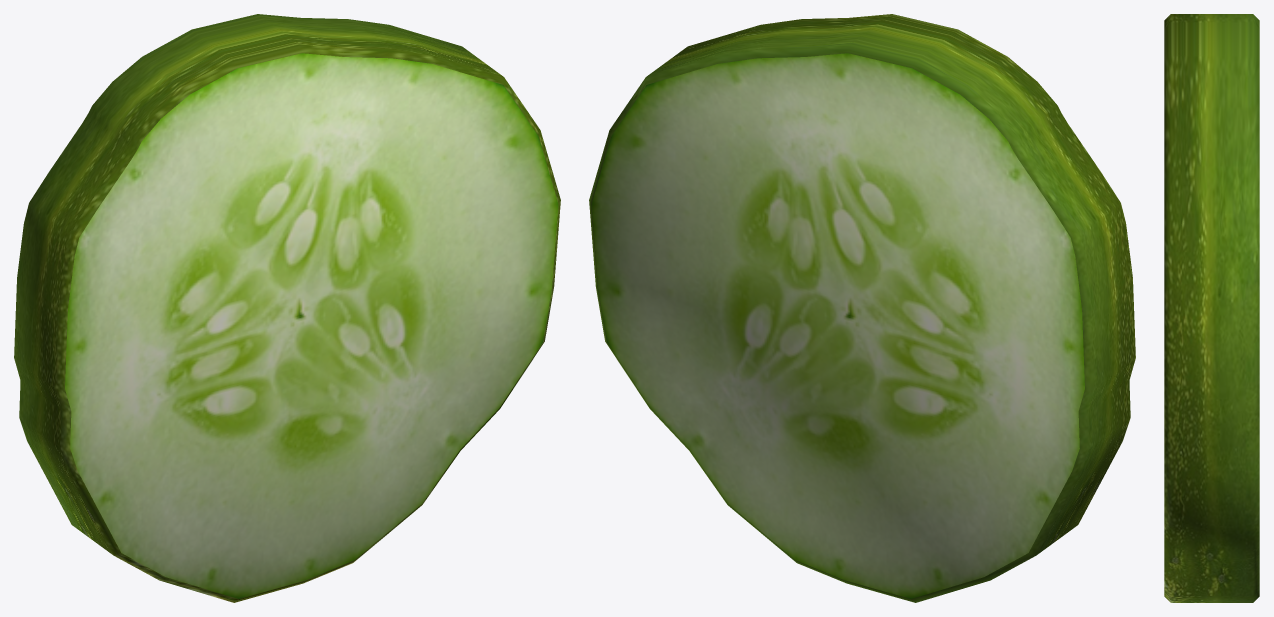
Rendered from cucumber_piece.fbx.
3 renders of one model, left to right at view 1: azimuth 30°, elevation 25°; view 2: azimuth 150°, elevation 25°; view 3: azimuth 270°, elevation 25°, orthographic.
Parts seen in each view (by area): view 1: Plane; view 2: Plane; view 3: Plane.
Boxes of the visible parts, box(x1,y1,x2,y2) form: Plane: box(14, 14, 560, 602); Plane: box(589, 14, 1135, 602); Plane: box(1164, 14, 1259, 602).
Bounding box in the file's own units: 6.87 × 7.06 × 1.14.
Materials: 1 (1 with a texture image).
